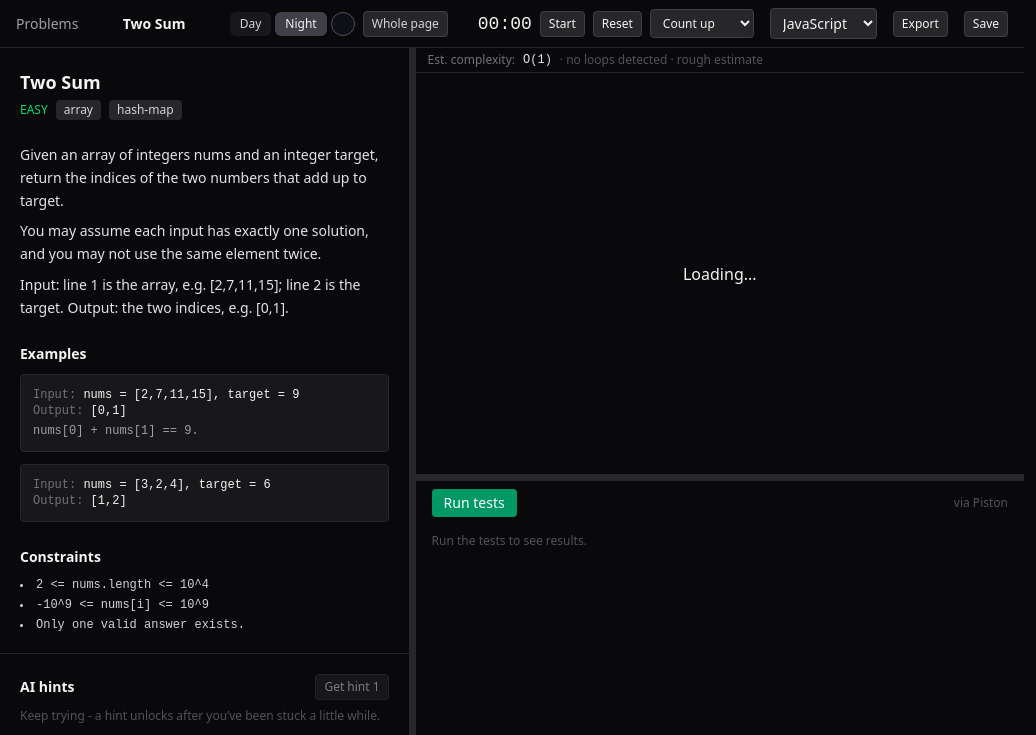
Test case: SessionPage › auto-saves an all-pass run as solved, using that run's verdicts
Step 1. Click the button "Run tests" → click(474, 503), box left=432, top=489, right=517, bottom=517
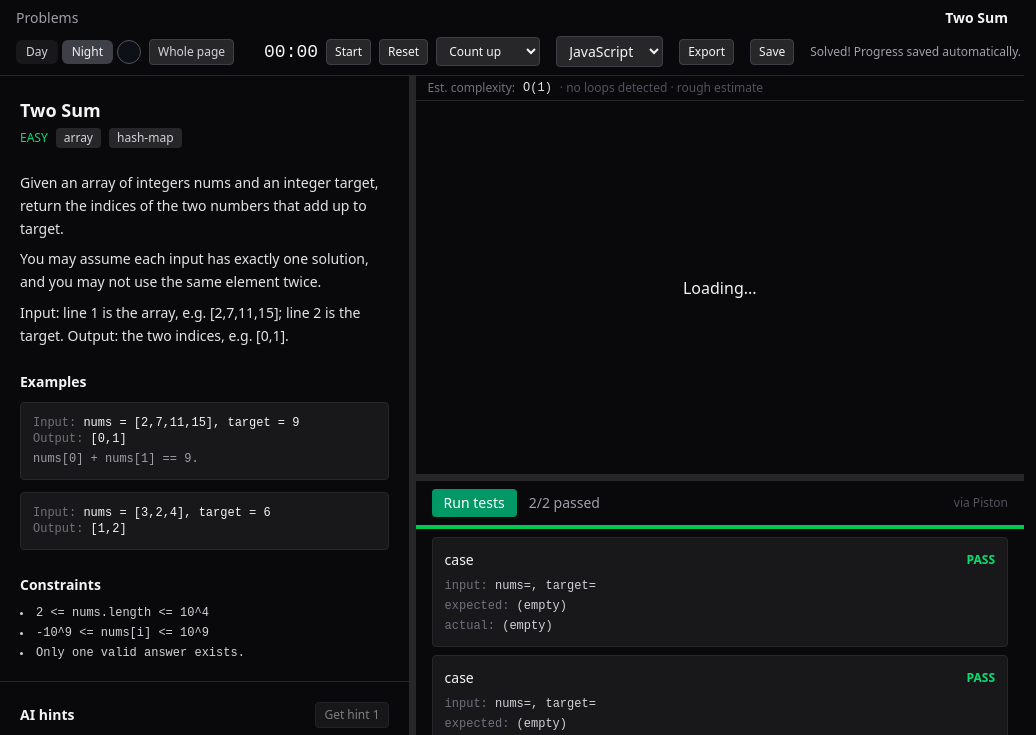
Expected: the text "Solved! Progress saved automatically." is shown, left=810, top=44, right=1021, bottom=60
